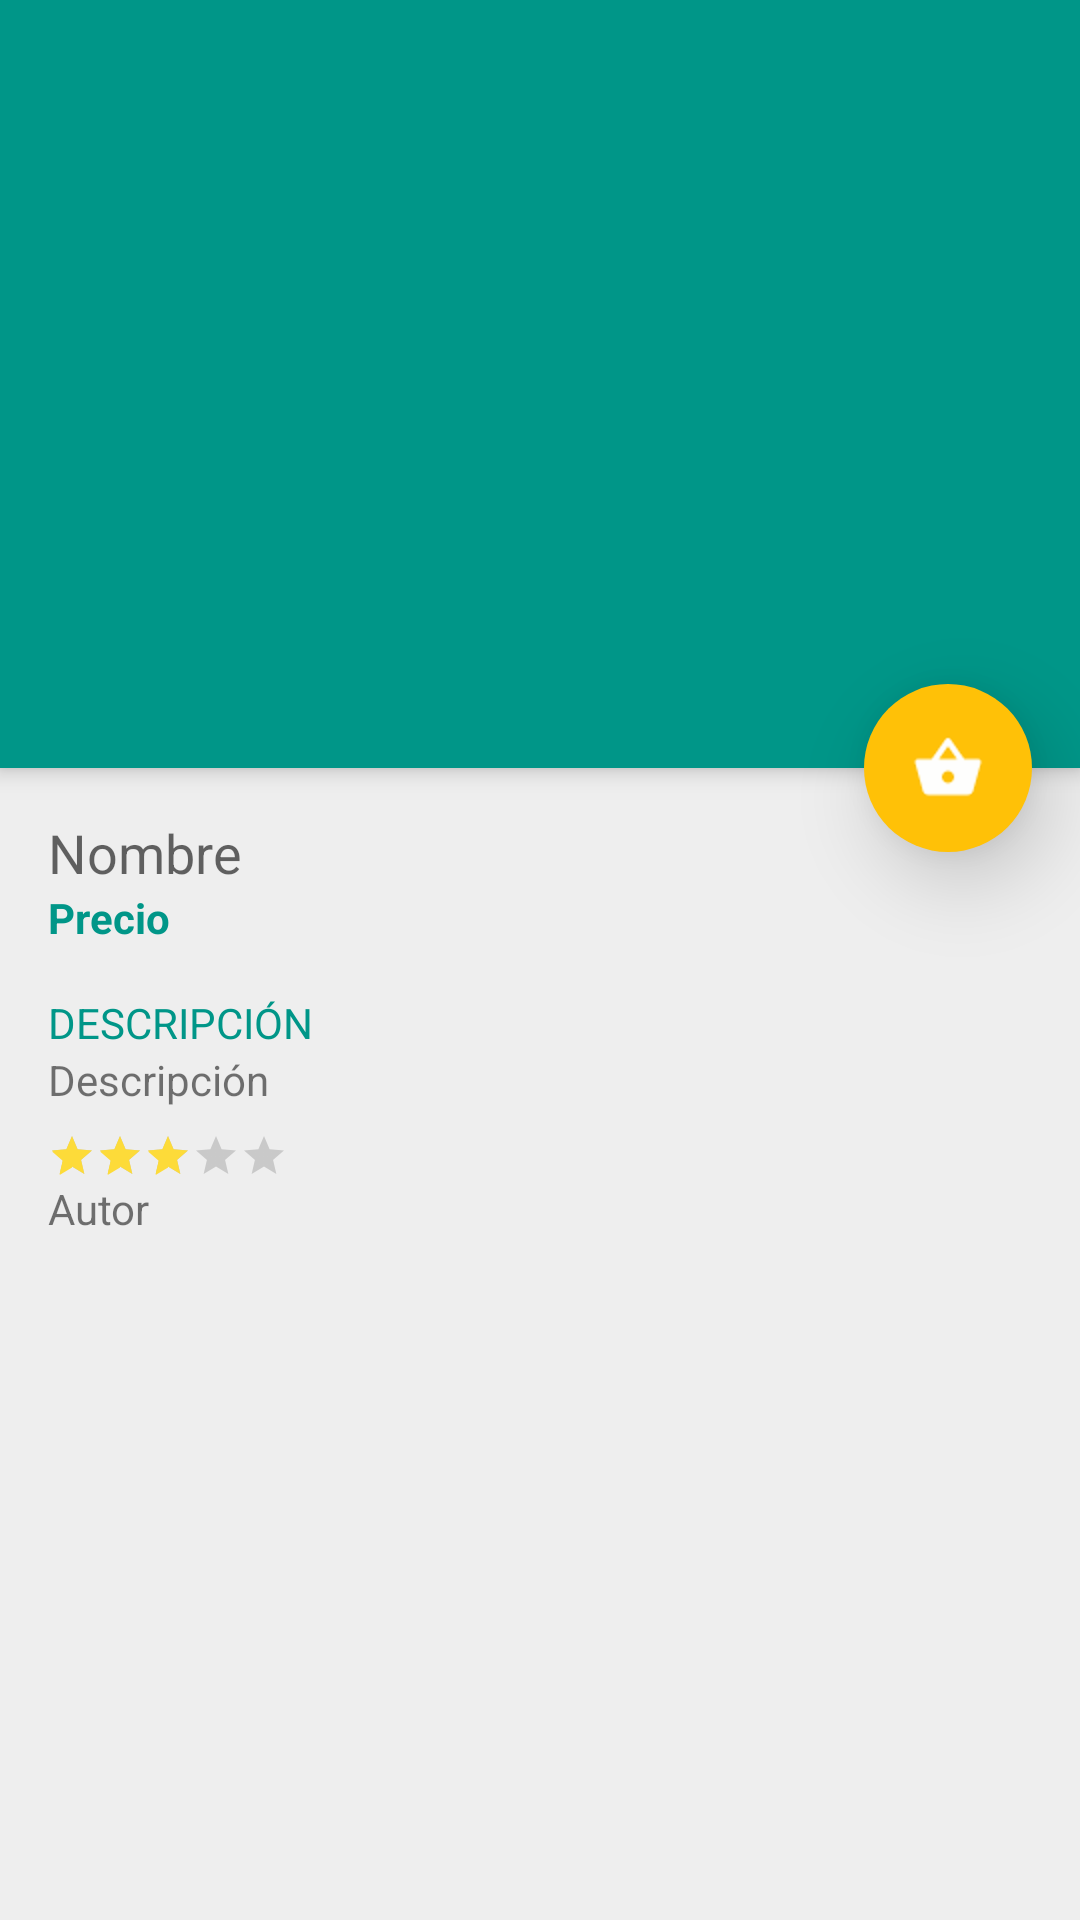

Icon click points for this 1080px×1920px phone screenshot, format point (x, y):
basket: point (948, 768)
